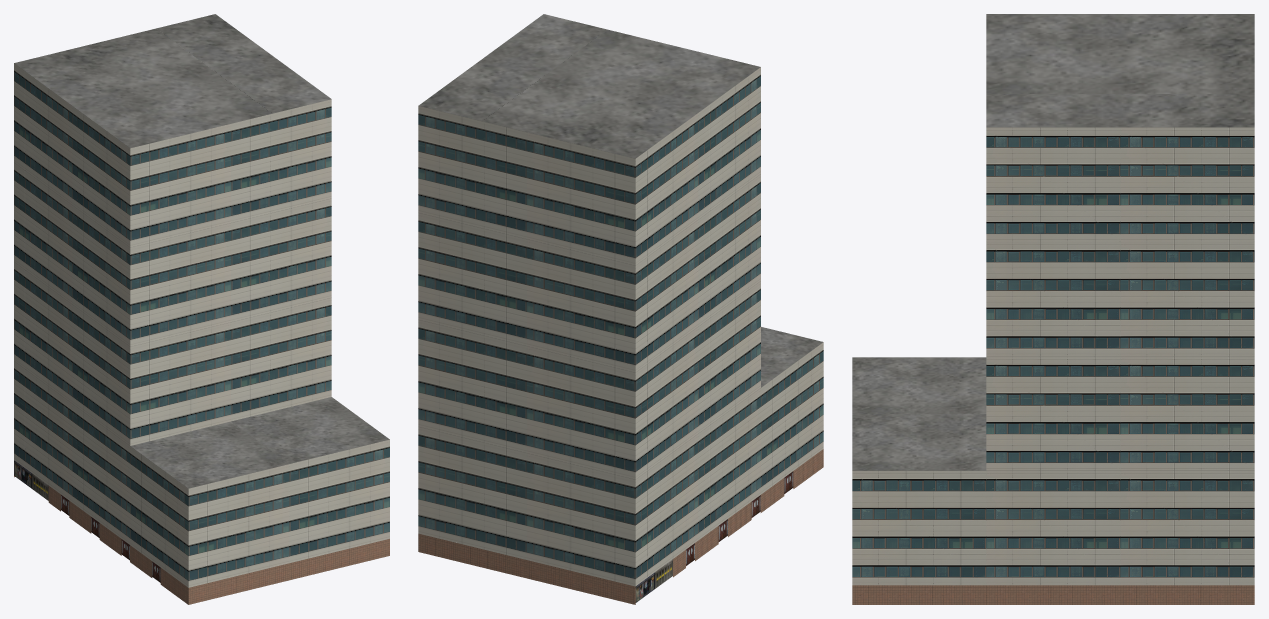
The model's file is Building029.fbx.
3 renders of one model, left to right at view 1: azimuth 30°, elevation 25°; view 2: azimuth 150°, elevation 25°; view 3: azimuth 270°, elevation 25°, orthographic. The views are drawn at different scales.
Visible parts, largest first — view 1: Building029; view 2: Building029; view 3: Building029.
Part boxes in pixels (box(x1,y1,x2,y2)): Building029: box(14, 14, 389, 604); Building029: box(418, 14, 823, 604); Building029: box(852, 14, 1254, 604).
Size of the model in its own units: 37.47 by 73.6 by 56.21.
